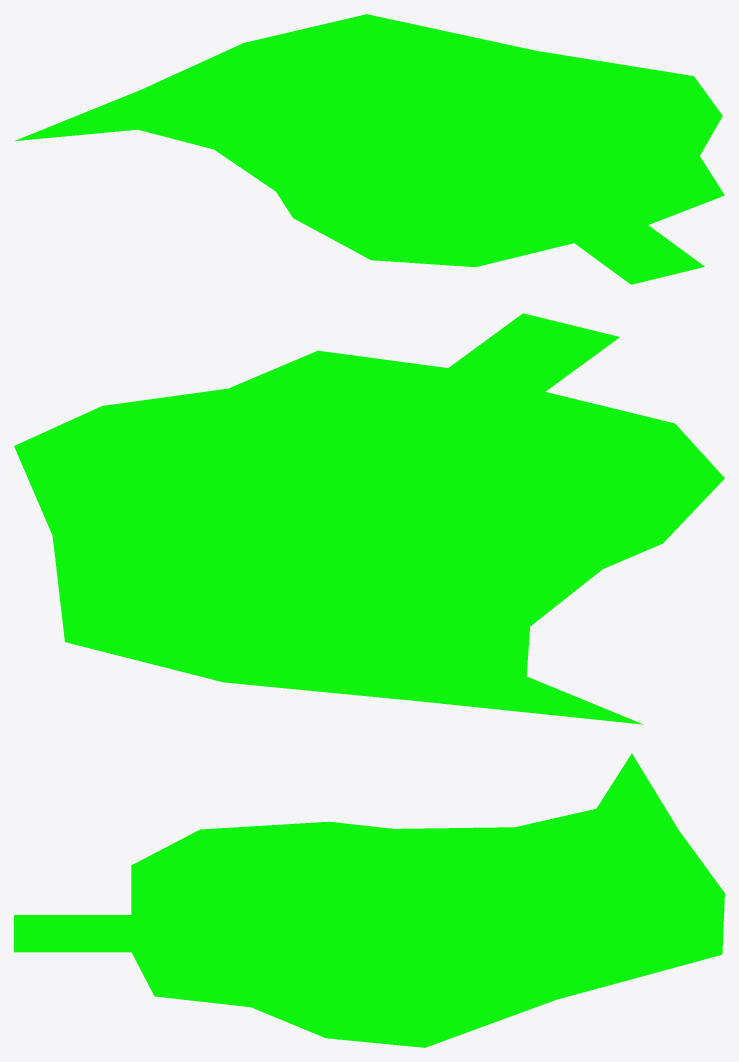
Rendered from s04a_nb2-floor.glb.
3 renders of one model, top to bottom at view 1: azimuth 30°, elevation 25°; view 2: azimuth 150°, elevation 25°; view 3: azimuth 270°, elevation 25°, orthographic. The views are drawn at different scales.
Parts seen in each view (by area): view 1: collision_floor-colonly; view 2: collision_floor-colonly; view 3: collision_floor-colonly.
Boxes of the visible parts, left/top/right/bottom form: collision_floor-colonly: left=15, top=14, right=724, bottom=284; collision_floor-colonly: left=14, top=313, right=724, bottom=724; collision_floor-colonly: left=14, top=753, right=724, bottom=1047.
Size of the model in its own units: 47.03 by 0.2266 by 48.44.
